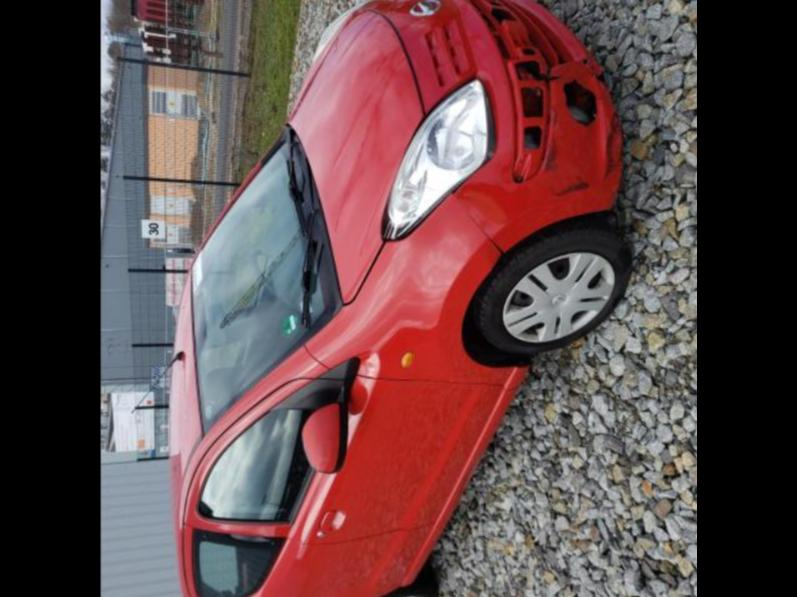Broken part: (446, 0, 623, 253)
Dent: (459, 183, 525, 233)
Missing part: (472, 0, 549, 179)
Paint chip: (604, 115, 619, 177), (544, 142, 558, 170), (557, 182, 587, 194)
